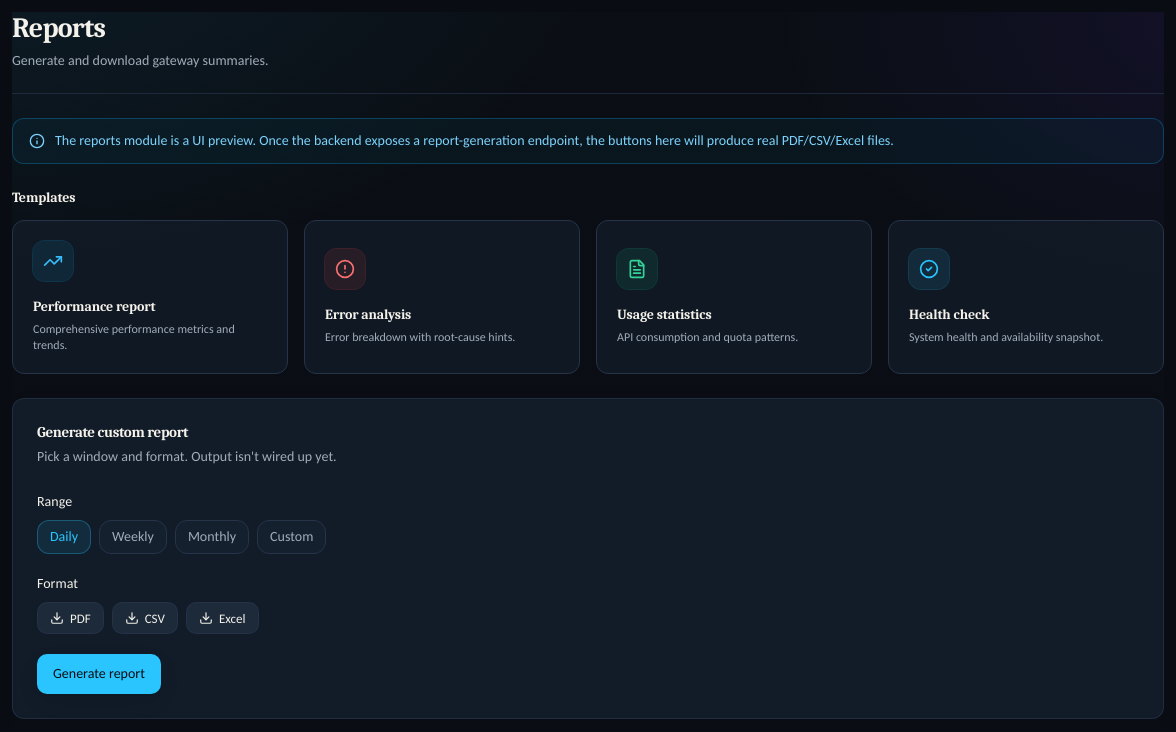
it: Reports page › clicking a template queues a (preview-only) report toast
Click the heading "Error analysis" at coordinates (368, 314), box 325,306 -> 411,323
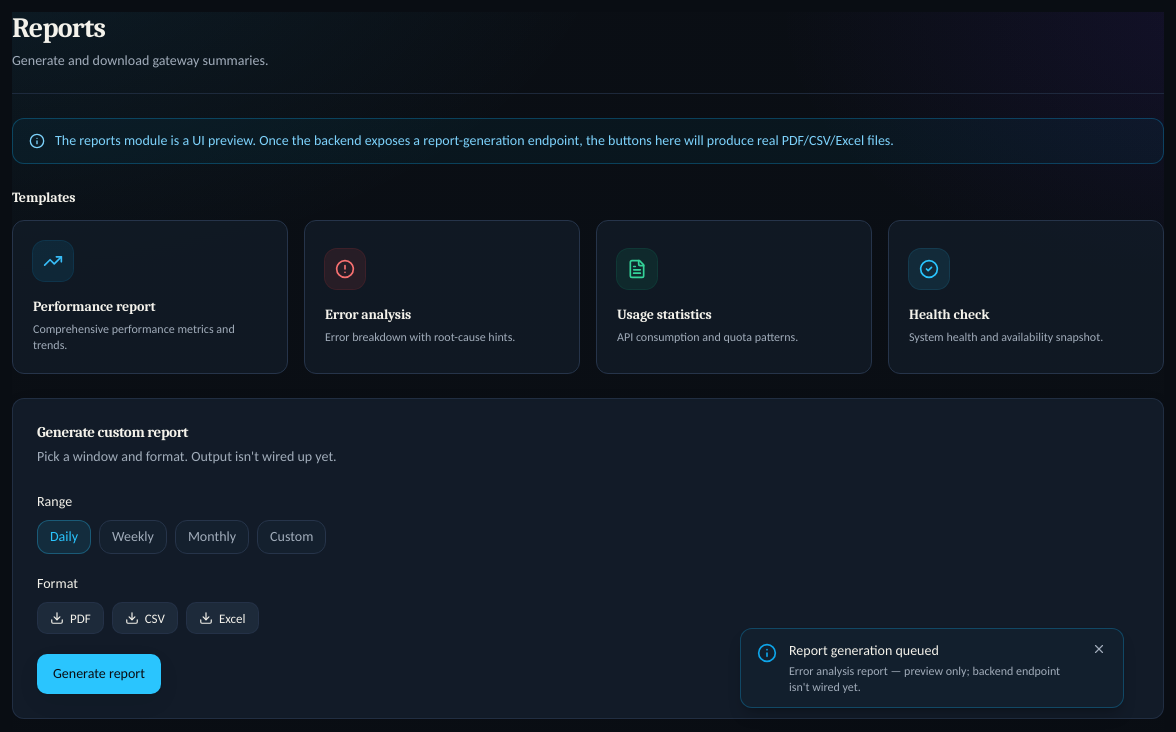
Expected: the text "Report generation queued" is shown, 789,642 -> 939,659
Expected: the text "Error analysis report" is shown, 789,664 -> 1060,694
